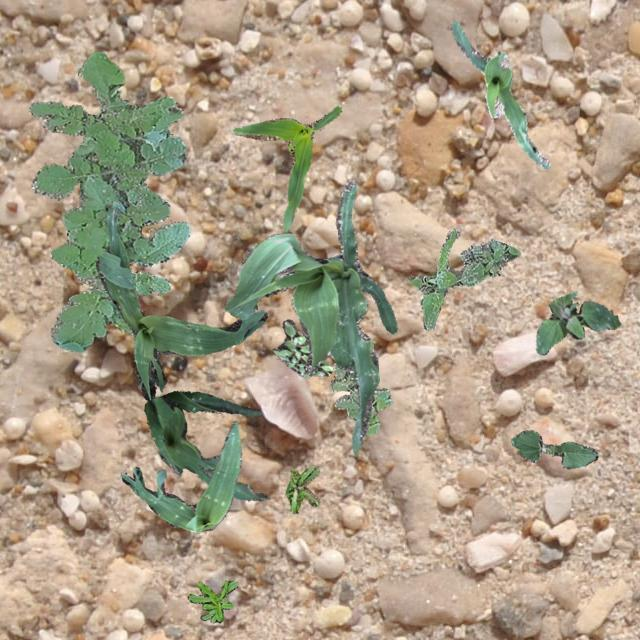crop: (224, 180, 396, 453), (95, 200, 266, 400), (449, 19, 548, 168), (143, 390, 270, 500), (232, 104, 341, 230), (120, 419, 240, 532), (509, 428, 596, 468)
weed: (28, 50, 188, 352), (408, 228, 520, 330), (536, 291, 620, 354), (328, 362, 391, 434), (272, 318, 332, 376), (186, 580, 236, 622), (284, 463, 320, 512)
